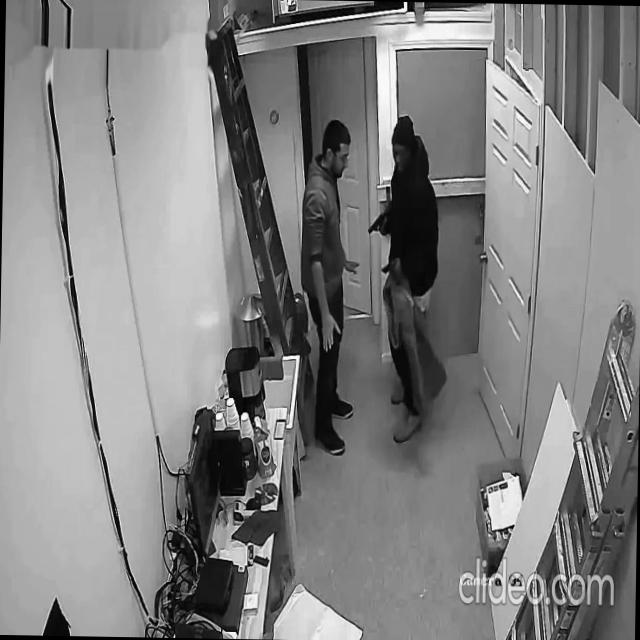gun: (367, 212, 384, 235)
person: (296, 117, 361, 457)
person with a gun: (364, 111, 441, 448)
